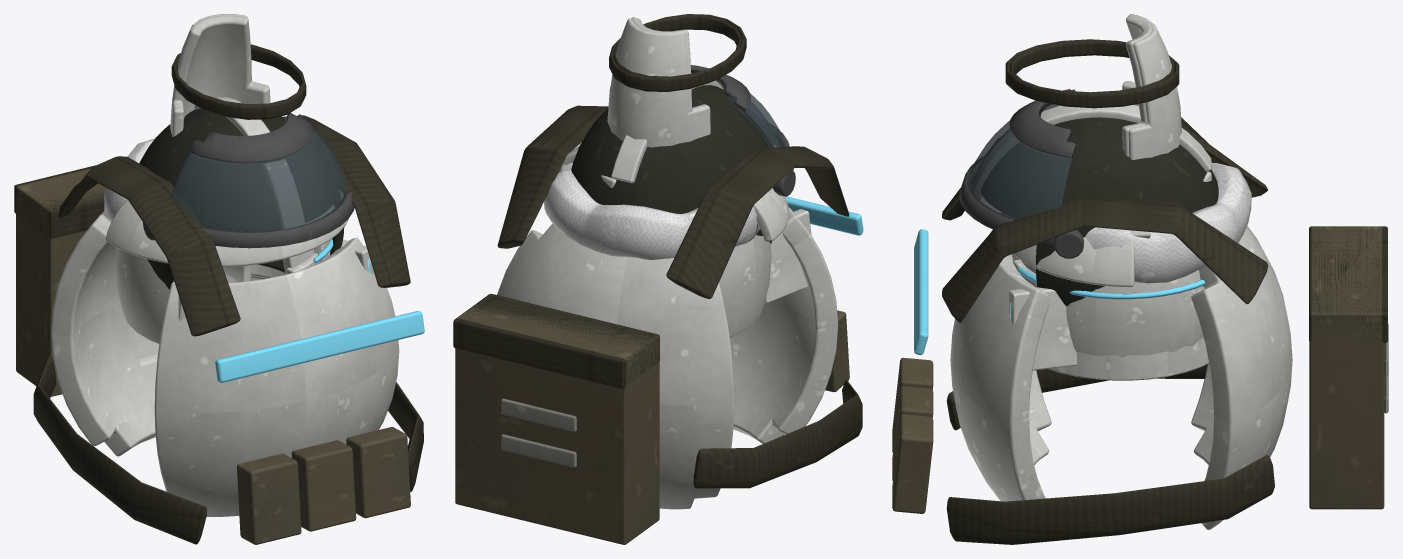
File: kit_heng.glb
3 views of the same model, side by side, from view 1: azimuth 30°, elevation 25°; view 2: azimuth 150°, elevation 25°; view 3: azimuth 270°, elevation 25° (orthographic). The views are drawn at different scales.
Visible parts, largest first — view 1: mixamorigSpine2__carrier, mixamorigHead__visor, mixamorigHead__helmet, mixamorigSpine2__medpack, mixamorigRightLeg__greave, mixamorigSpine2__gorget, mixamorigRightUpLeg__tasset, mixamorigLeftLeg__greave, mixamorigRightArm__pauldron; view 2: mixamorigSpine2__carrier, mixamorigSpine2__medpack, mixamorigHead__helmet, mixamorigLeftLeg__greave, mixamorigSpine2__gorget, mixamorigRightUpLeg__tasset, mixamorigRightLeg__greave, mixamorigHead__visor; view 3: mixamorigSpine2__carrier, mixamorigSpine2__medpack, mixamorigHead__helmet, mixamorigHead__visor, mixamorigSpine2__gorget, mixamorigLeftUpLeg__tasset, mixamorigLeftLeg__greave, mixamorigLeftArm__pauldron, mixamorigRightLeg__greave, mixamorigRightArm__pauldron.
Boxes of the visible parts, left/top/right/bottom form: mixamorigSpine2__carrier: left=33, top=115, right=424, bottom=544; mixamorigHead__visor: left=171, top=113, right=354, bottom=248; mixamorigHead__helmet: left=139, top=97, right=373, bottom=320; mixamorigSpine2__medpack: left=14, top=165, right=106, bottom=396; mixamorigRightLeg__greave: left=172, top=15, right=306, bottom=282; mixamorigSpine2__gorget: left=104, top=138, right=348, bottom=267; mixamorigRightUpLeg__tasset: left=115, top=247, right=169, bottom=343; mixamorigLeftLeg__greave: left=170, top=14, right=303, bottom=134; mixamorigRightArm__pauldron: left=251, top=239, right=333, bottom=279; mixamorigSpine2__carrier: left=497, top=105, right=863, bottom=509; mixamorigSpine2__medpack: left=453, top=293, right=659, bottom=544; mixamorigHead__helmet: left=571, top=80, right=811, bottom=303; mixamorigLeftLeg__greave: left=607, top=15, right=741, bottom=147; mixamorigSpine2__gorget: left=544, top=142, right=789, bottom=259; mixamorigRightUpLeg__tasset: left=719, top=233, right=771, bottom=337; mixamorigRightLeg__greave: left=613, top=14, right=746, bottom=135; mixamorigHead__visor: left=691, top=65, right=793, bottom=170; mixamorigSpine2__carrier: left=892, top=117, right=1292, bottom=544; mixamorigSpine2__medpack: left=1309, top=226, right=1388, bottom=509; mixamorigHead__helmet: left=972, top=105, right=1218, bottom=370; mixamorigHead__visor: left=959, top=89, right=1078, bottom=244; mixamorigSpine2__gorget: left=1001, top=163, right=1251, bottom=287; mixamorigLeftUpLeg__tasset: left=1034, top=270, right=1204, bottom=357; mixamorigLeftLeg__greave: left=1010, top=15, right=1181, bottom=377; mixamorigLeftArm__pauldron: left=1020, top=171, right=1211, bottom=380; mixamorigRightLeg__greave: left=1005, top=14, right=1174, bottom=156; mixamorigRightArm__pauldron: left=1013, top=259, right=1202, bottom=380.
Size of the model in its own units: 45.7 by 61.88 by 59.45.
Materials: 5 (3 with a texture image).
